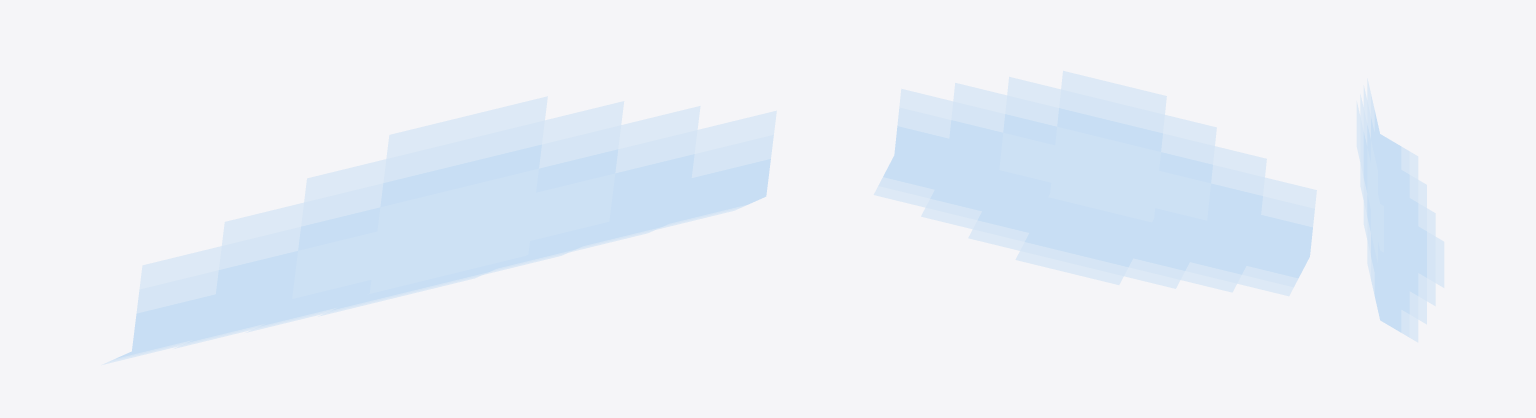
The picture shows the model from 3 angles, left to right: view 1: azimuth 30°, elevation 25°; view 2: azimuth 150°, elevation 25°; view 3: azimuth 270°, elevation 25°; orthographic projection. The views are drawn at different scales.
Bounding box in the file's own units: 1 × 0.5088 × 0.3828.
Materials: 1 (1 with a texture image).
